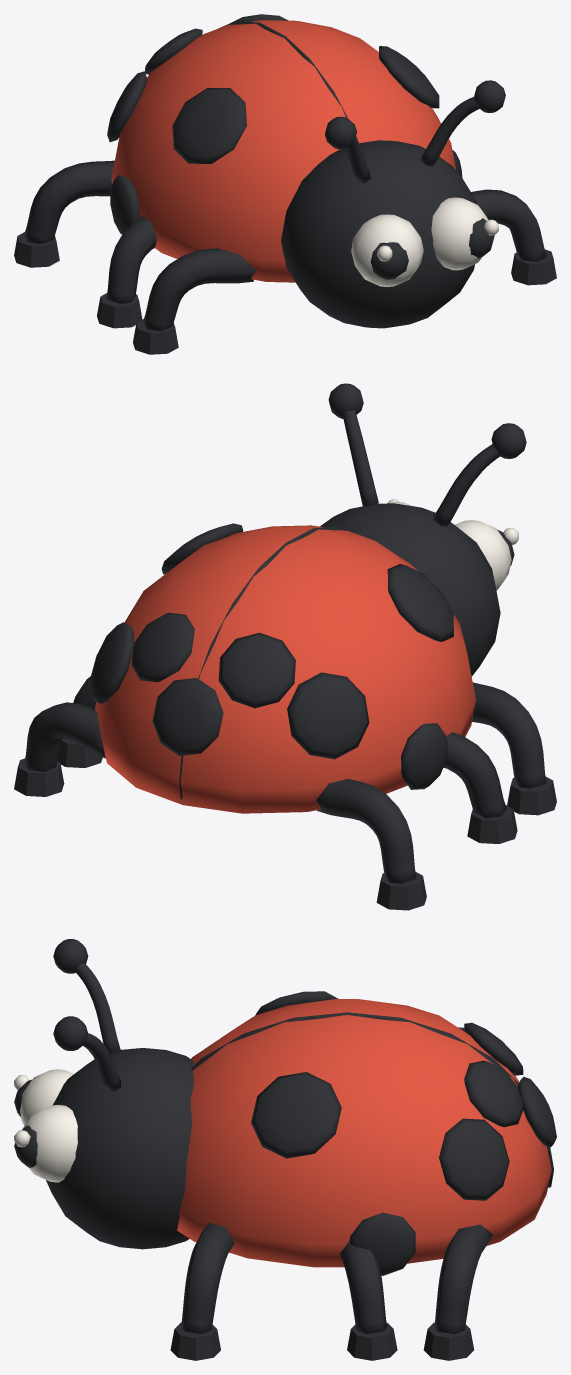
File: ladybug-pet.glb
3 views of the same model, one above another, from view 1: azimuth 30°, elevation 25°; view 2: azimuth 150°, elevation 25°; view 3: azimuth 270°, elevation 25° (orthographic). The views are drawn at different scales.
Parts seen in each view (by area): view 1: Shell, Head, Spot_1, Leg_L0, Leg_L2, Eye_L, Eye_R, Leg_R0, Leg_L1, Spot_0, Spot_7, Spot_3 (+12 smaller); view 2: Shell, Head, Spot_3, Leg_L2, Spot_5, Spot_Tail, Leg_L0, Leg_R2, Spot_1, Spot_4, Leg_L1, Spot_7 (+13 smaller); view 3: Shell, Head, Spot_0, Spot_2, Leg_R2, Leg_R0, Eye_R, Leg_R1, Spot_4, Spot_6, Spot_Tail, Eye_L (+11 smaller).
Boxes of the visible parts, <box> form: Shell: <box>111,20,455,282</box>; Head: <box>281,140,477,328</box>; Spot_1: <box>172,88,246,163</box>; Leg_L0: <box>143,248,255,330</box>; Leg_L2: <box>24,160,114,243</box>; Eye_L: <box>351,214,423,286</box>; Eye_R: <box>431,197,488,270</box>; Leg_R0: <box>471,189,546,261</box>; Leg_L1: <box>106,216,157,303</box>; Spot_0: <box>379,46,439,108</box>; Spot_7: <box>110,175,140,234</box>; Spot_3: <box>107,71,146,142</box>; Shell: <box>95,525,475,813</box>; Head: <box>320,503,500,676</box>; Spot_3: <box>287,672,369,759</box>; Leg_L2: <box>316,779,416,883</box>; Spot_5: <box>218,632,295,708</box>; Spot_Tail: <box>152,678,223,755</box>; Leg_L0: <box>472,682,546,788</box>; Leg_R2: <box>24,702,105,771</box>; Spot_1: <box>387,564,453,641</box>; Spot_4: <box>131,612,194,682</box>; Leg_L1: <box>443,732,506,818</box>; Spot_7: <box>401,723,447,789</box>; Shell: <box>177,999,551,1267</box>; Head: <box>46,1048,193,1249</box>; Spot_0: <box>251,1072,341,1158</box>; Spot_2: <box>439,1118,509,1200</box>; Leg_R2: <box>434,1224,492,1334</box>; Leg_R0: <box>181,1223,234,1333</box>; Eye_R: <box>22,1104,77,1182</box>; Leg_R1: <box>340,1240,386,1334</box>; Spot_4: <box>464,1060,523,1127</box>; Spot_6: <box>350,1212,415,1275</box>; Spot_Tail: <box>518,1076,556,1147</box>; Eye_L: <box>20,1069,73,1125</box>.
Size of the model in its own units: 2.5 by 1.58 by 2.79.
